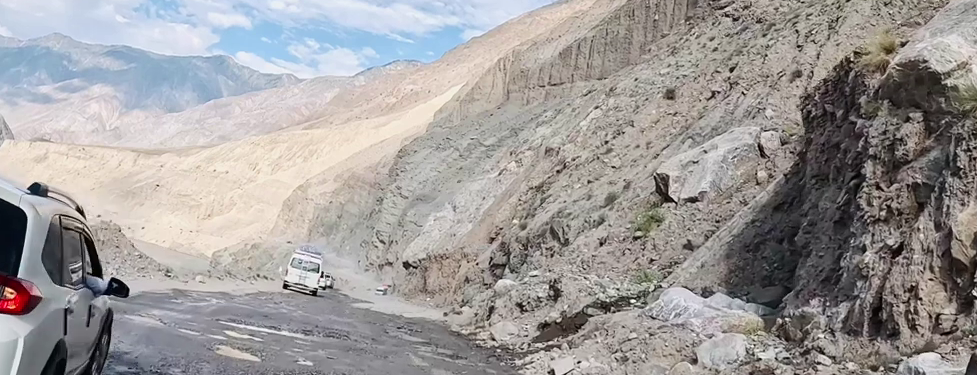unexpected: (278, 199, 721, 360)
